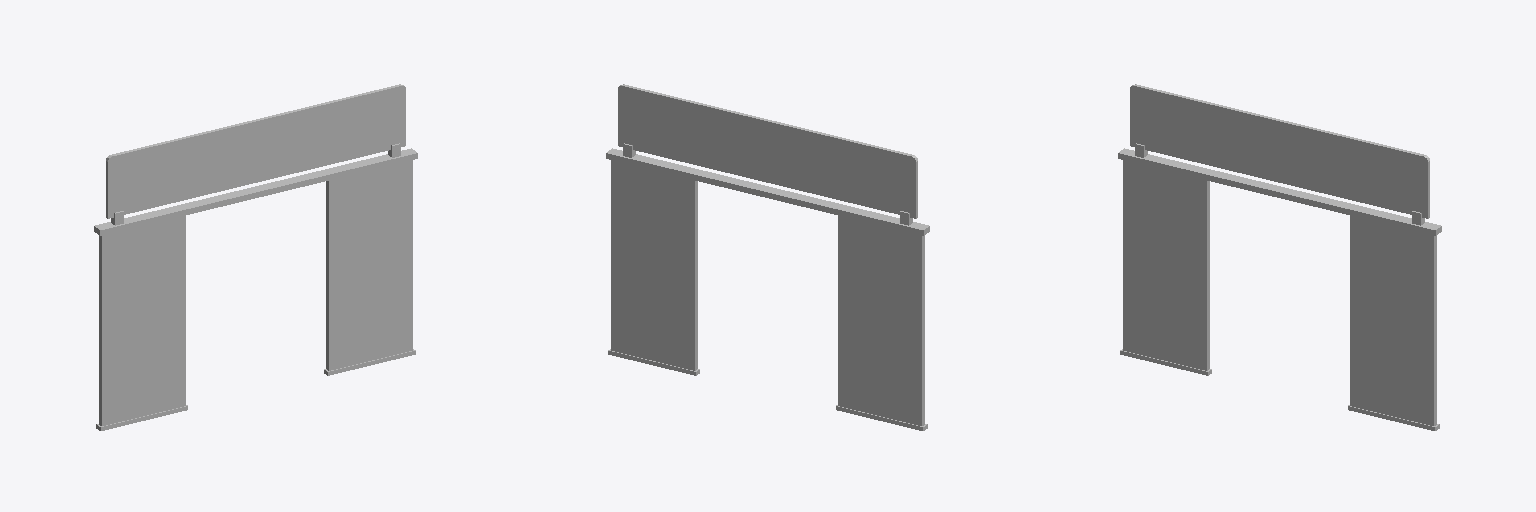
The model's file is Desk_Separator.obj.
The picture shows the model from 3 angles: view 1: azimuth 30°, elevation 25°; view 2: azimuth 150°, elevation 25°; view 3: azimuth 330°, elevation 25°; orthographic projection.
Visible parts, largest first — view 1: Desk_Separator; view 2: Desk_Separator; view 3: Desk_Separator.
Part boxes in pixels (left/top/right/bottom): Desk_Separator: left=94, top=84, right=417, bottom=430; Desk_Separator: left=606, top=84, right=929, bottom=430; Desk_Separator: left=1118, top=84, right=1441, bottom=430.
Bounding box in the file's own units: 1.56 × 1.28 × 0.055.